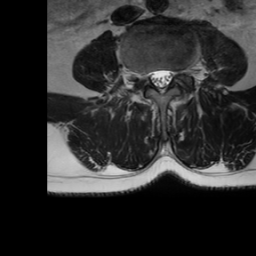CCS_normal: (157, 63, 165, 98)
LFS_stenosis: (172, 63, 182, 84)
LLS_normal: (165, 63, 172, 90)
RFS_stenosis: (138, 64, 149, 88)
RLS_normal: (149, 64, 157, 90)
